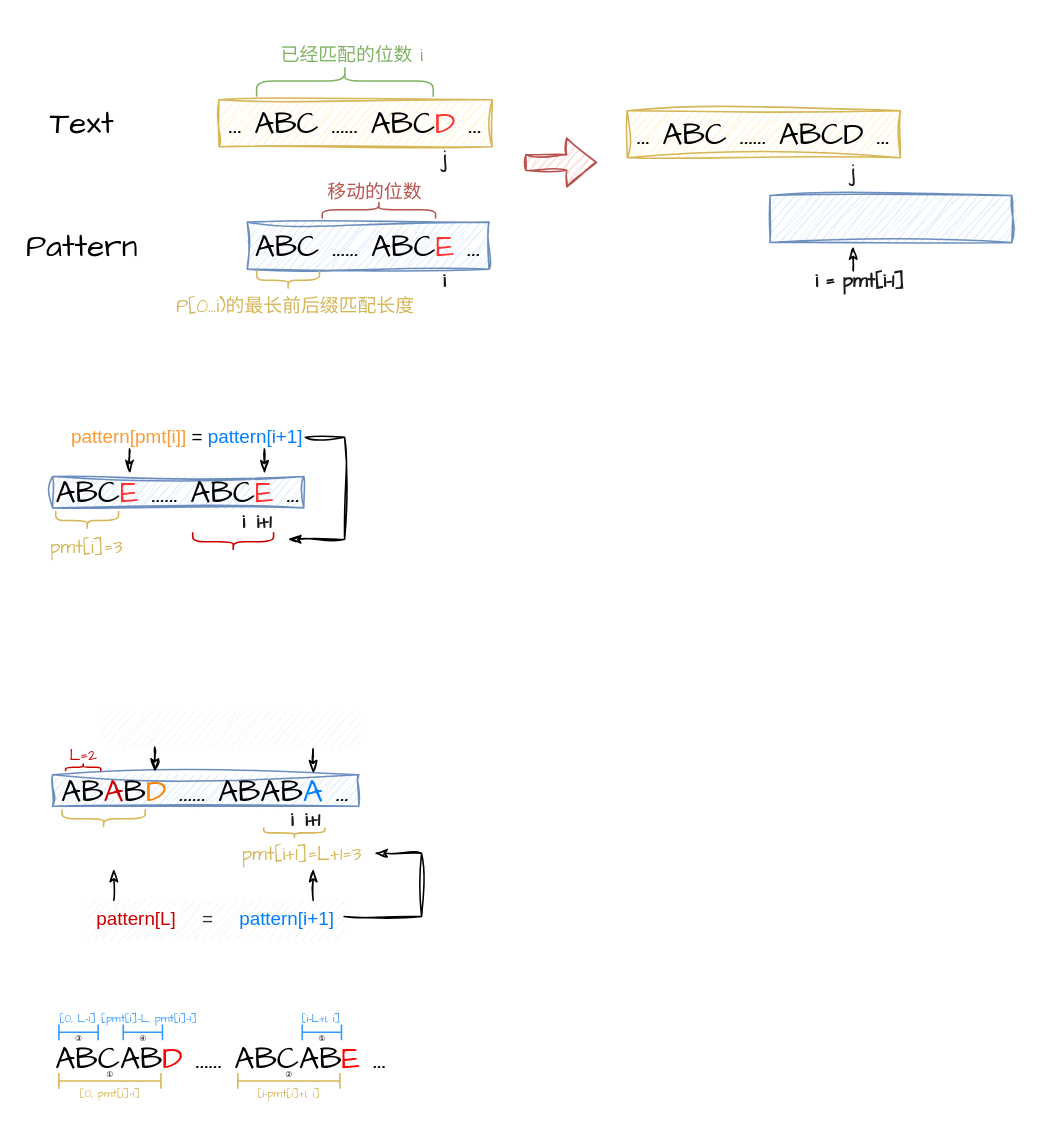
This 1039x1132 diagram has some shape labels left out. Each missing label, with the centre of its shape:
"ABC ...... ABCE ..." goes at (890,218).
"pattern[pmt[i]] != pattern[i+1]" goes at (231,727).
"pmt[i+1]=pmt[i]+1=4" goes at (232,541).
"pmt[i]=4" goes at (102,818).
